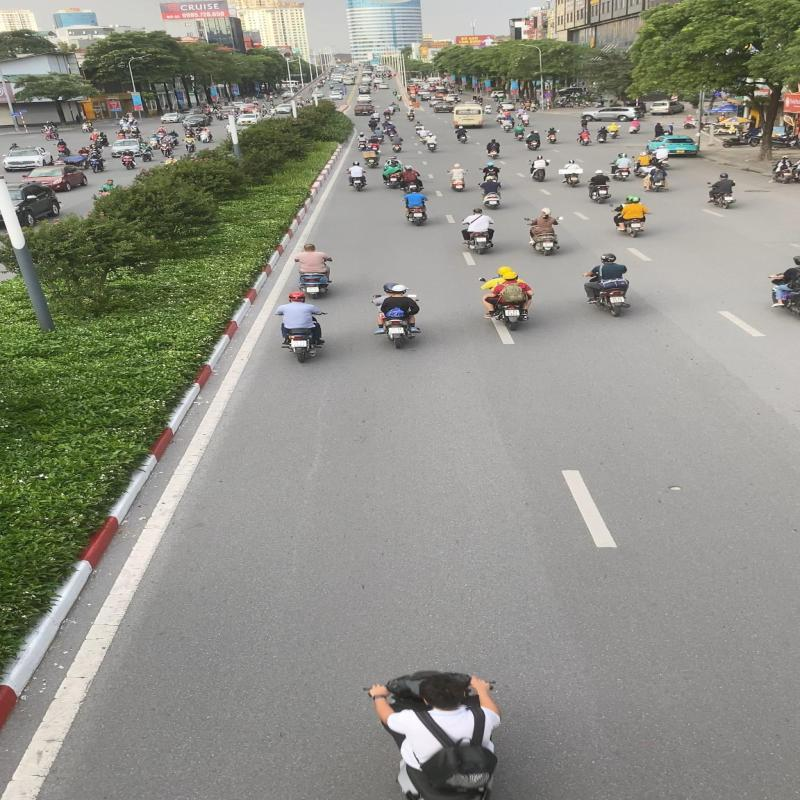nohelmet: (411, 670, 478, 712)
